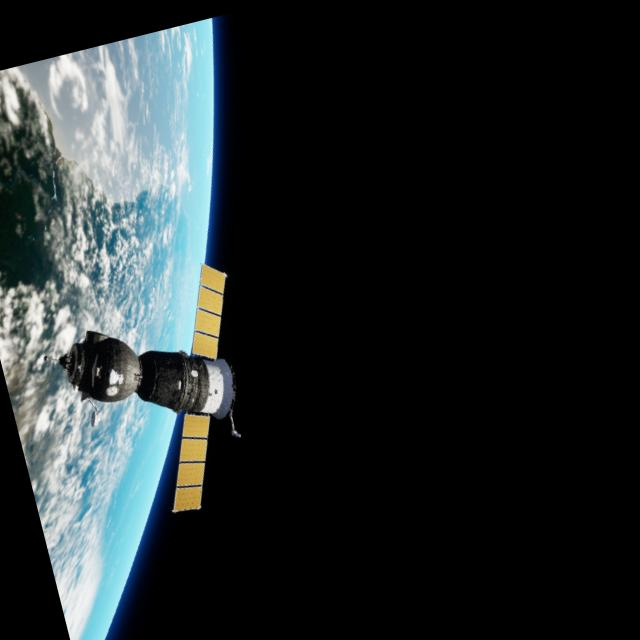Satellites revolving around earth: (0, 18, 364, 640)
